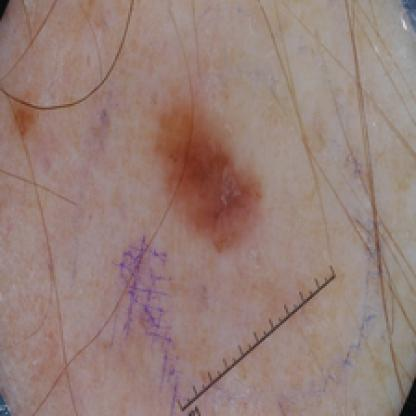malignant: (141, 72, 294, 238)
